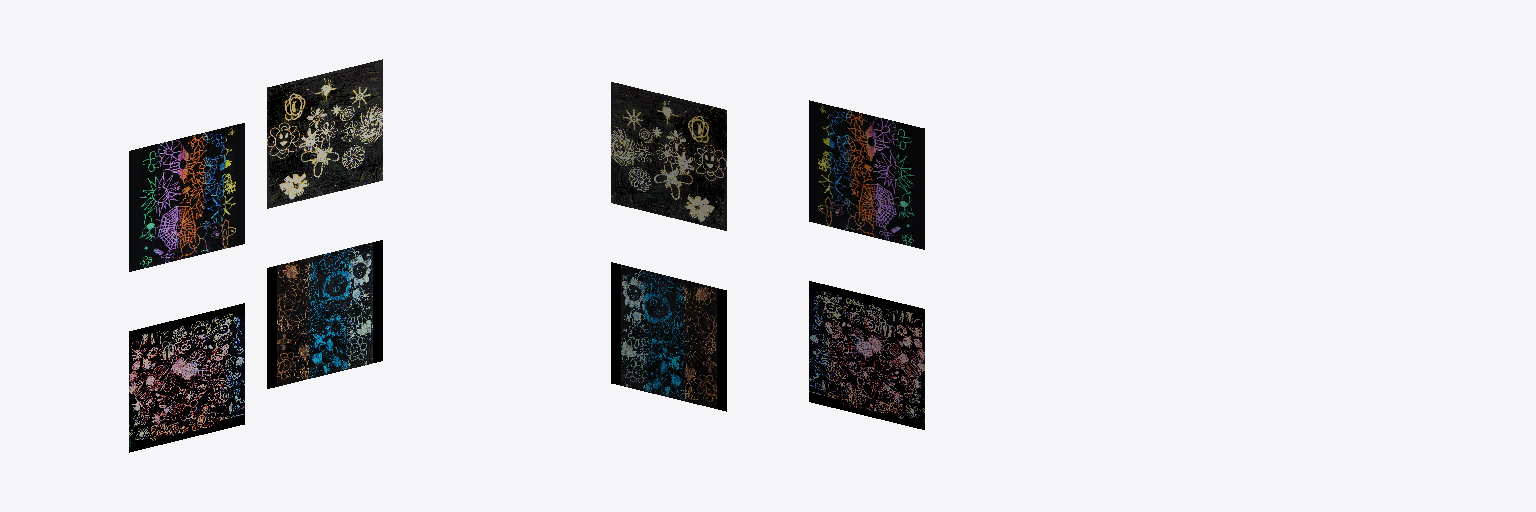
The picture shows the model from 3 angles: view 1: azimuth 30°, elevation 25°; view 2: azimuth 150°, elevation 25°; view 3: azimuth 270°, elevation 25°; orthographic projection.
Visible parts, largest first — view 1: Plane.2, Plane, Plane.3, Plane.1; view 2: Plane.3, Plane.1, Plane.2, Plane; view 3: none.
Part boxes in pixels (x1,y1,x2,y2): Plane.2: (129,123,244,271); Plane: (267,240,382,388); Plane.3: (267,59,382,208); Plane.1: (129,303,244,452); Plane.3: (611,82,726,230); Plane.1: (809,281,924,429); Plane.2: (809,100,924,249); Plane: (611,262,726,411).
Size of the model in its own units: 979 by 995 by 182.
4 materials, 4 textured.